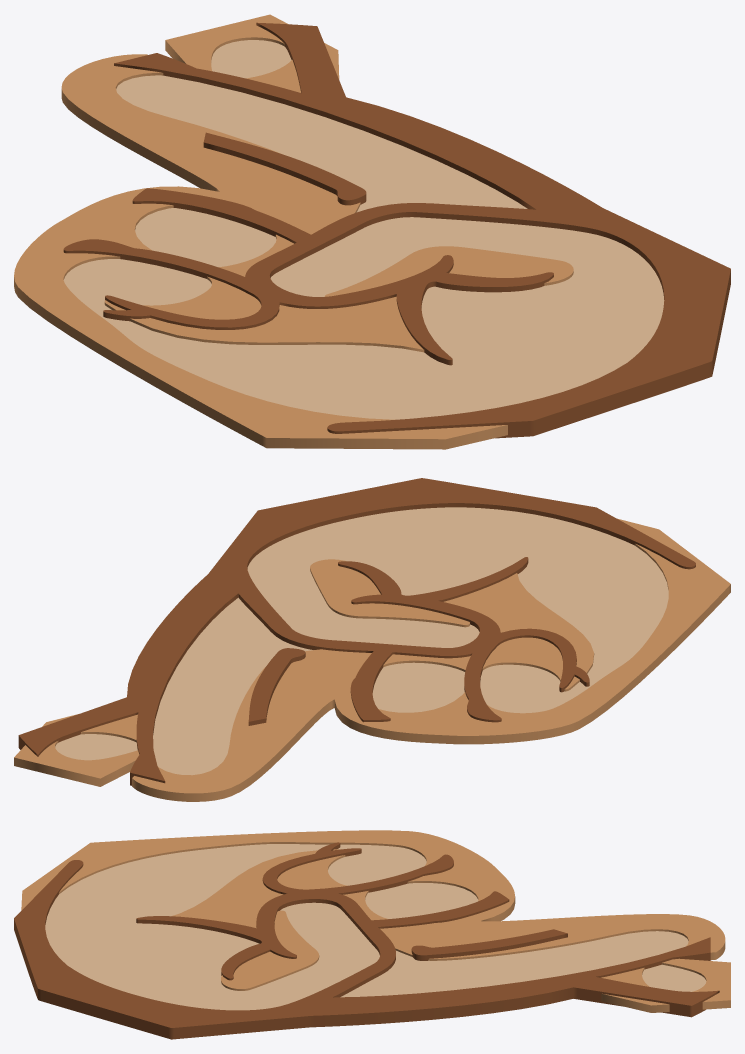
Rendered from emoji_u1f91e_1f3fc.glb.
3 renders of one model, top to bottom at view 1: azimuth 30°, elevation 25°; view 2: azimuth 150°, elevation 25°; view 3: azimuth 270°, elevation 25°, orthographic. The views are drawn at different scales.
Parts seen in each view (by area): view 1: emoji_u1f91e_1f3fc; view 2: emoji_u1f91e_1f3fc; view 3: emoji_u1f91e_1f3fc.
Part boxes in pixels (x1,y1,x2,y2): emoji_u1f91e_1f3fc: (14, 14, 730, 449); emoji_u1f91e_1f3fc: (14, 478, 730, 801); emoji_u1f91e_1f3fc: (14, 830, 730, 1039).
Size of the model in its own units: 0.0225 by 0.0008 by 0.0341.
